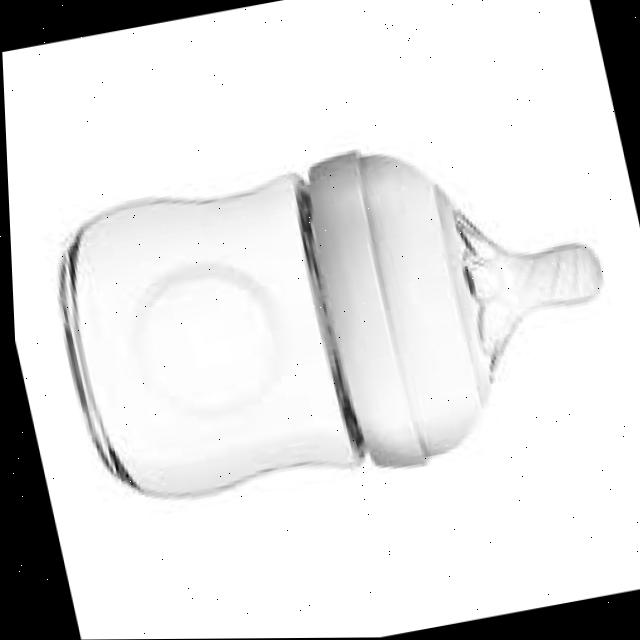Dry: (12, 68, 629, 606)
